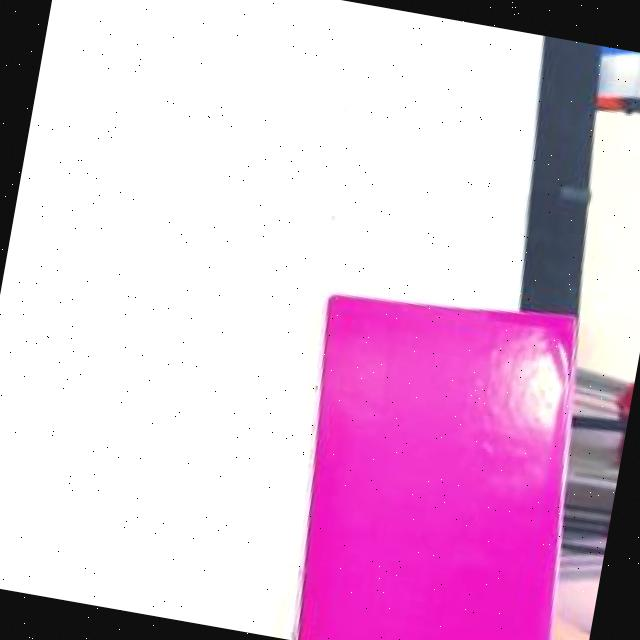xparking: (279, 283, 578, 640)
